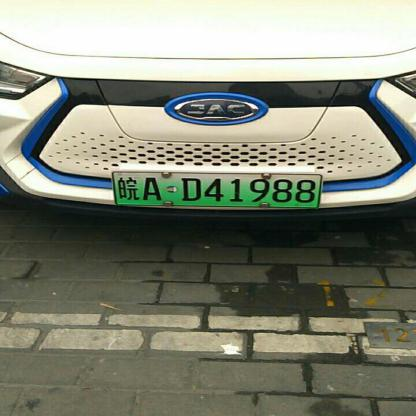lp: (111, 172, 322, 208)
